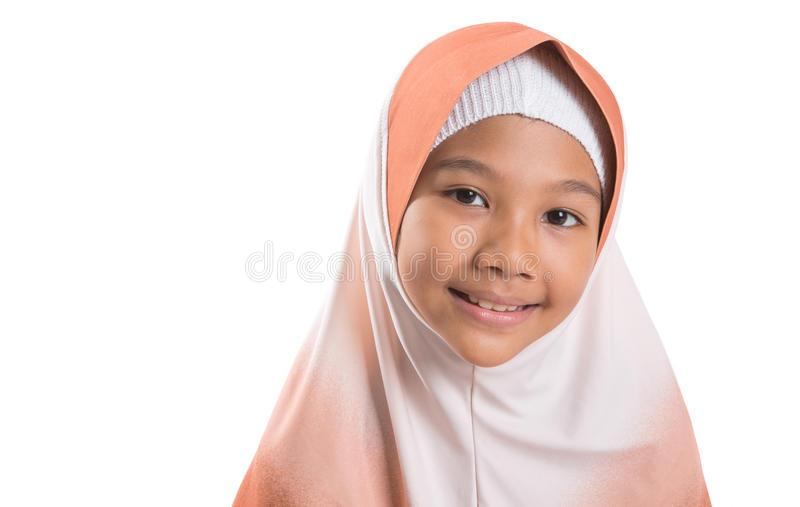No Mask: (384, 47, 625, 388)
